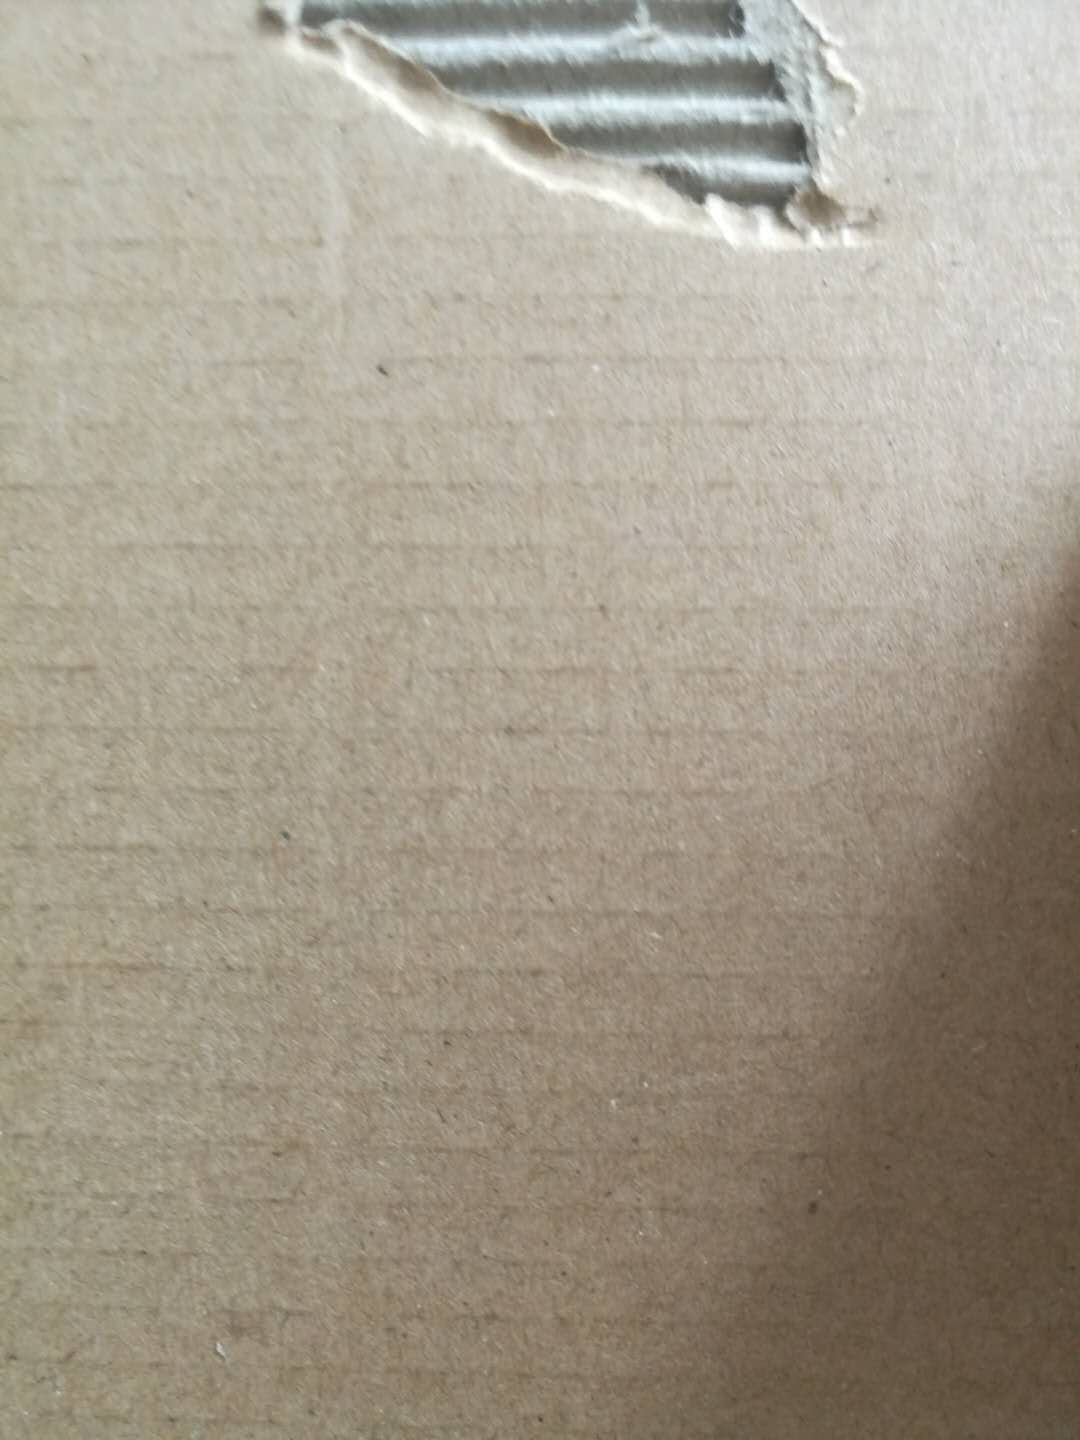defect: (234, 5, 909, 276)
